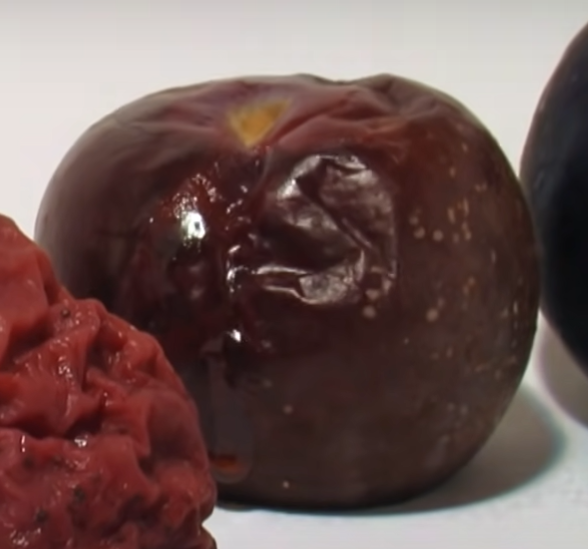plum_C: (33, 69, 542, 505)
